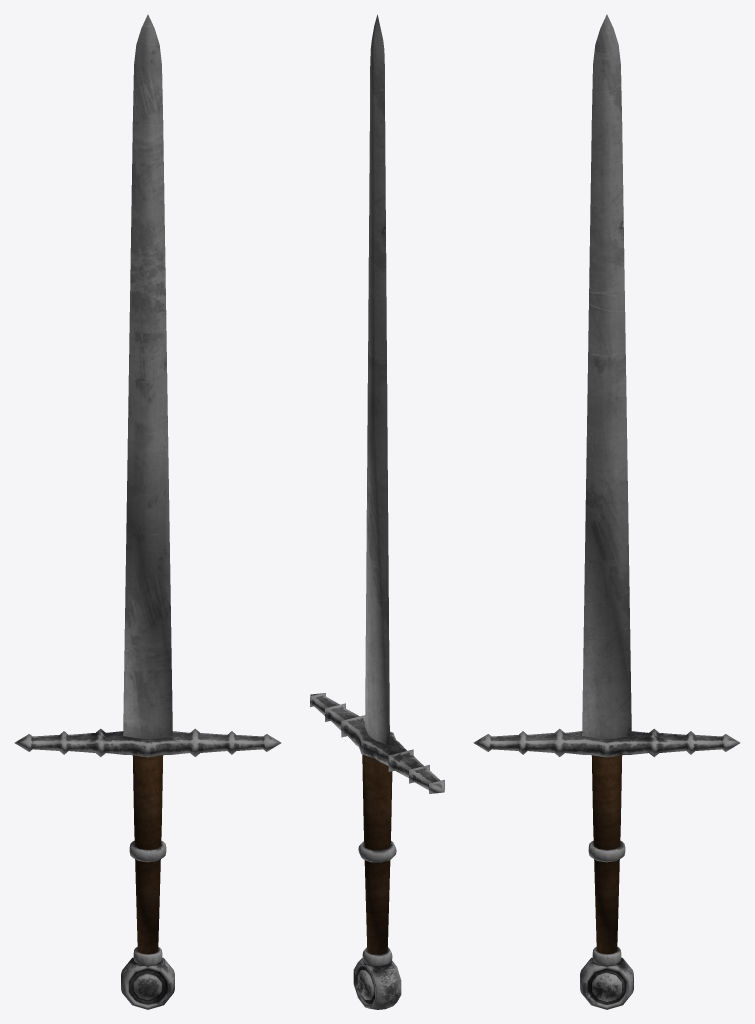
3 views of the same model, side by side, from view 1: azimuth 90°, elevation 25°; view 2: azimuth 210°, elevation 25°; view 3: azimuth 270°, elevation 25° (orthographic).
Parts seen in each view (by area): view 1: medieval_long_sword; view 2: medieval_long_sword; view 3: medieval_long_sword.
Boxes of the visible parts, box(x1,y1,x2,y2) form: medieval_long_sword: box(14, 14, 281, 1009); medieval_long_sword: box(310, 14, 444, 1009); medieval_long_sword: box(473, 14, 740, 1009).
Bounding box in the file's own units: 0.2383 × 6.79 × 1.66.
Materials: 1 (1 with a texture image).
